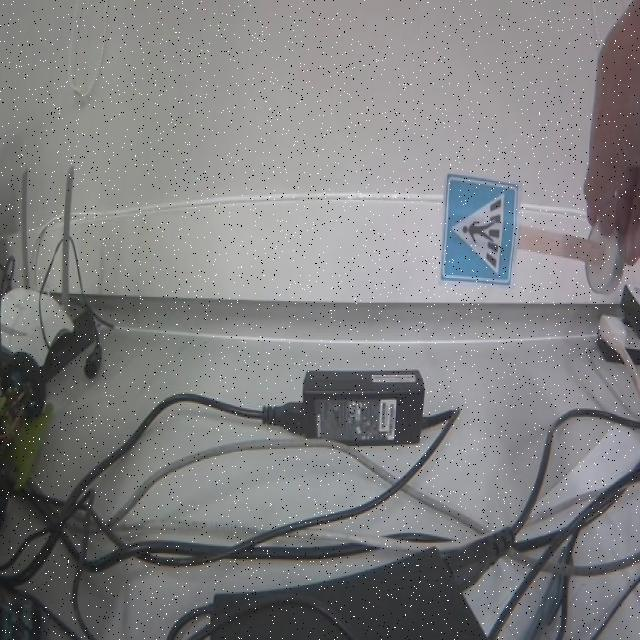Rambu Penyebrangan: (437, 171, 522, 288)
